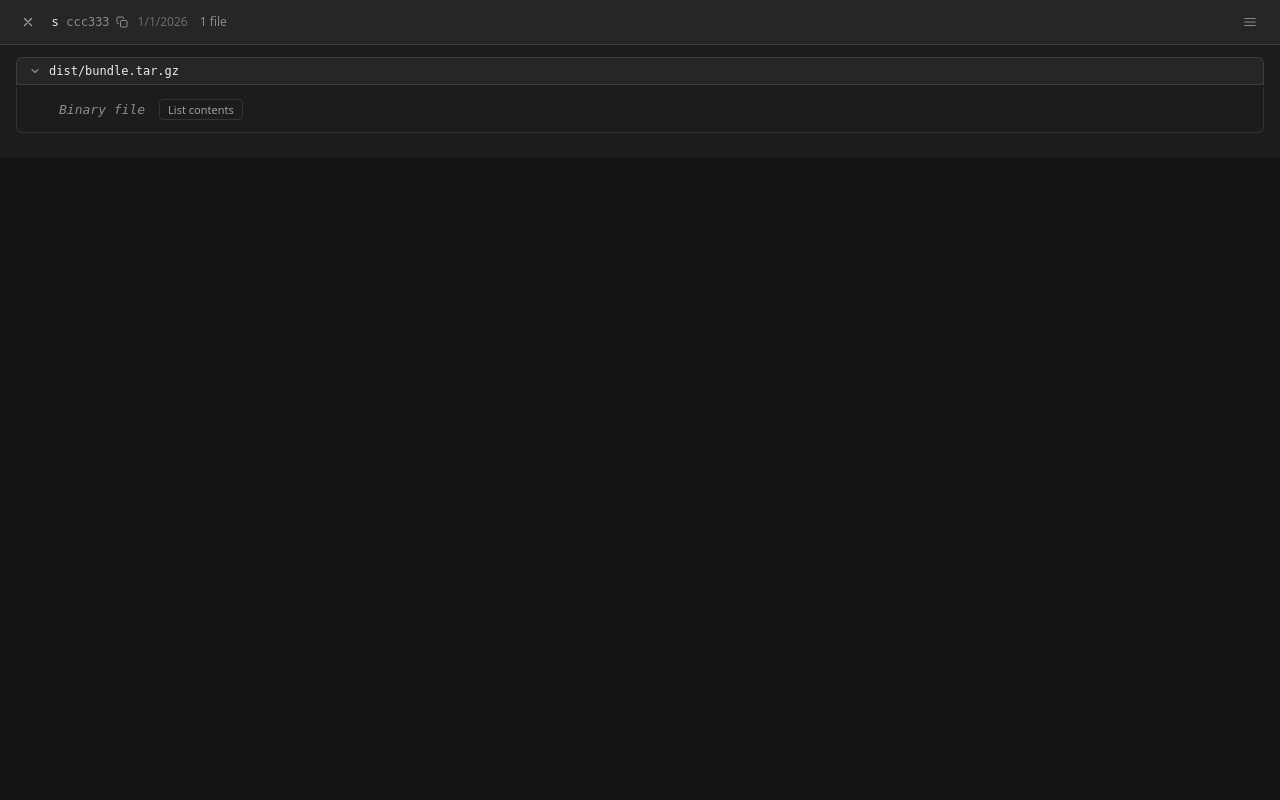
Test case: the commit overlay › lists the archive as the commit holds it
Click the button with class "diff-list-contents-btn".
click(201, 110)  # box top-left (159, 99), bottom-right (243, 120)
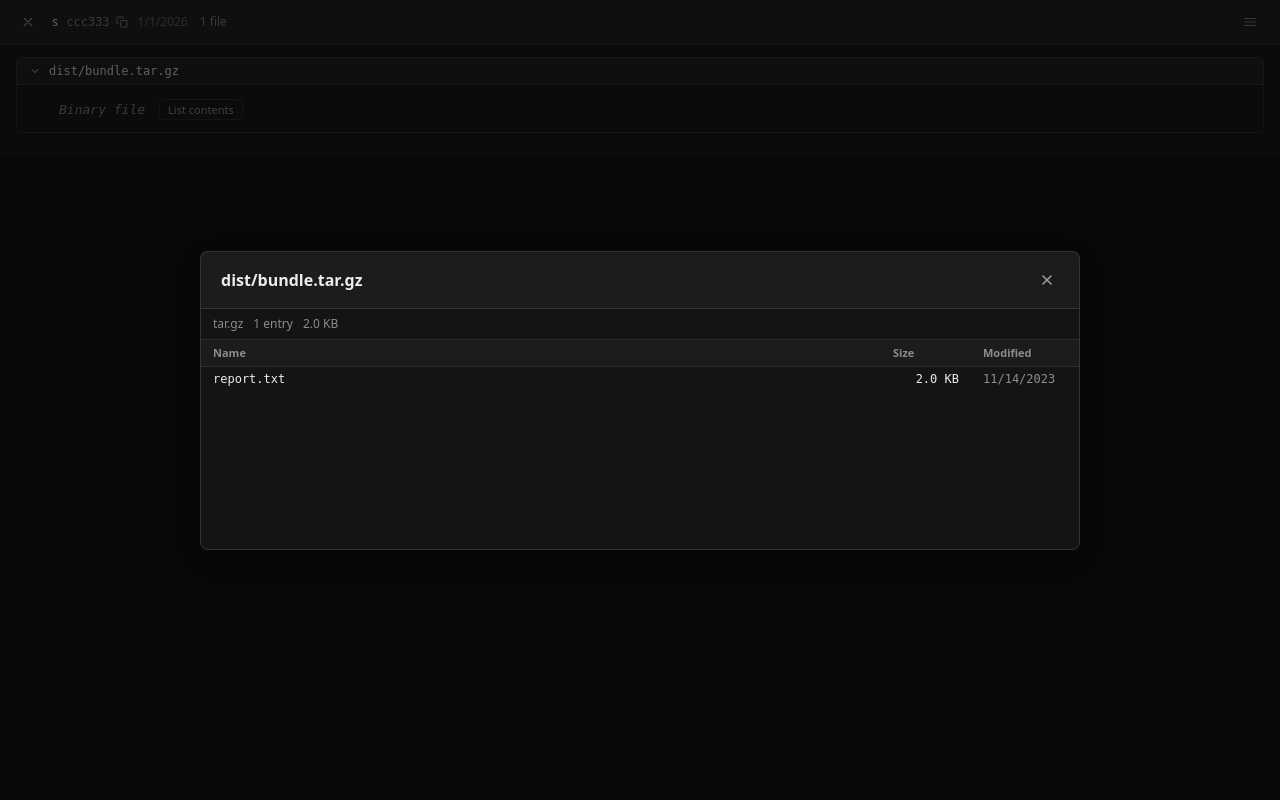
Expected: the text "report.txt" is shown, top-left (213, 370), bottom-right (869, 388)
